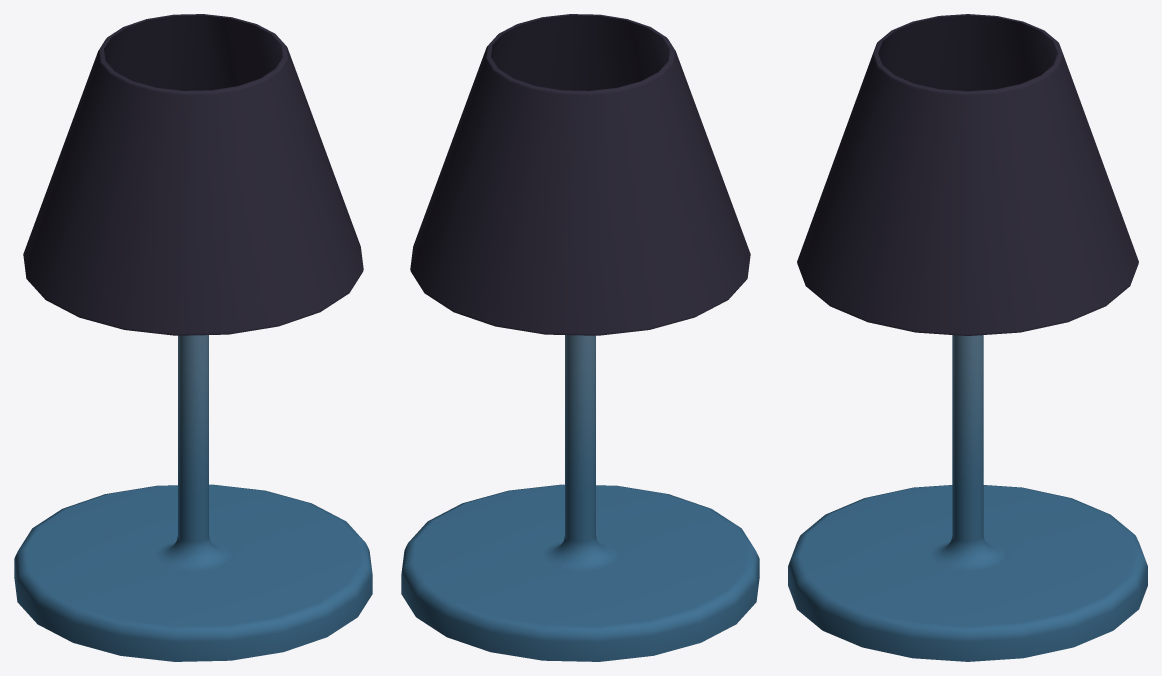
File: SM_Lampe_01.fbx
3 renders of one model, left to right at view 1: azimuth 30°, elevation 25°; view 2: azimuth 150°, elevation 25°; view 3: azimuth 270°, elevation 25°, orthographic.
Visible parts, largest first — view 1: SM_Lampe_01; view 2: SM_Lampe_01; view 3: SM_Lampe_01.
Part boxes in pixels (bbox=[...]): SM_Lampe_01: bbox=[14, 14, 372, 661]; SM_Lampe_01: bbox=[401, 14, 759, 661]; SM_Lampe_01: bbox=[788, 14, 1147, 661].
Size of the model in its own units: 21.23 by 34.68 by 21.23.
